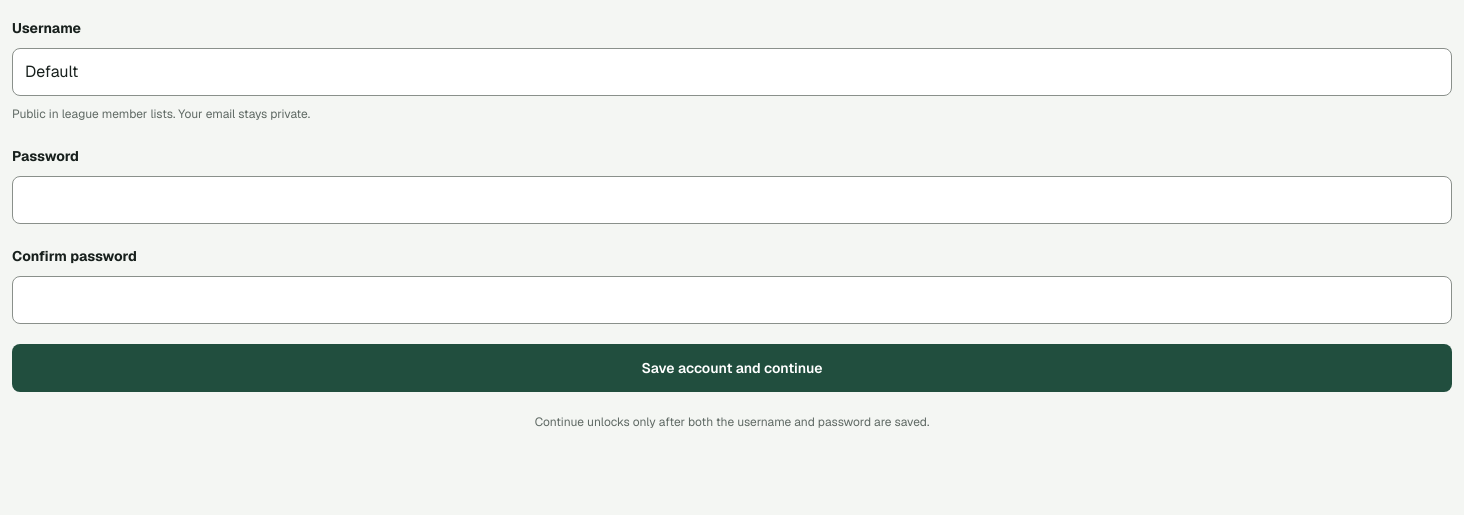
password authentication options › preserves the chosen username through a failed setup save after change event
The width and height of the screenshot is (1464, 515).
Replace the text in the field labelled "Username" with "ChosenName" at (732, 72), box [12,48,1452,96]
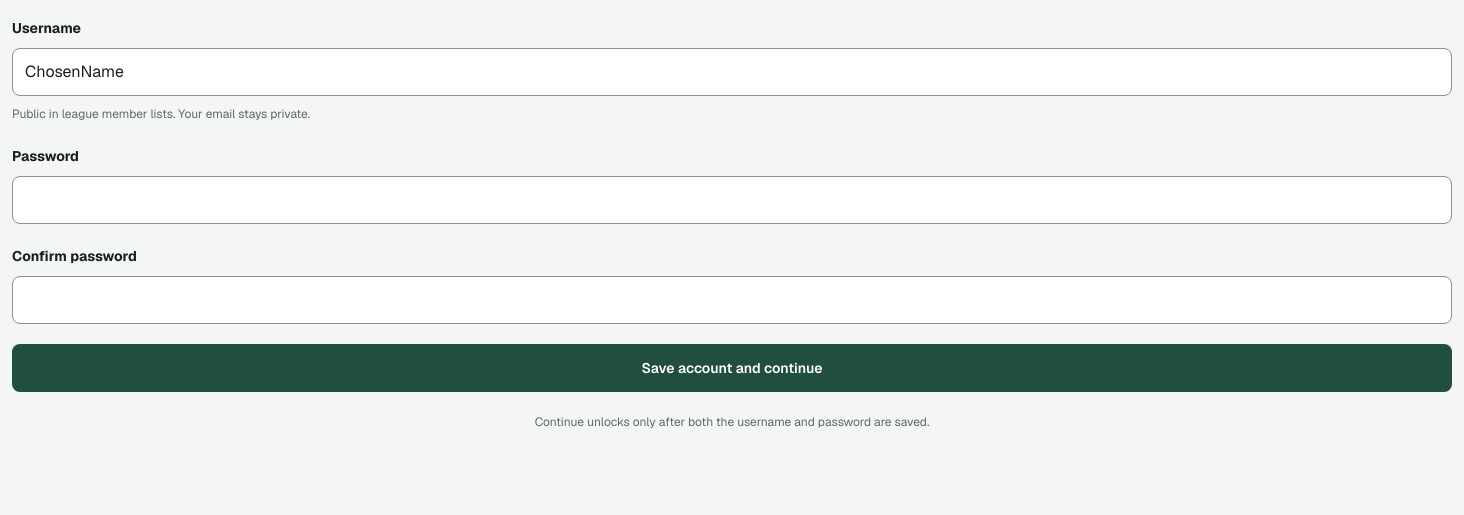
Submit the form named "Save account and continue"
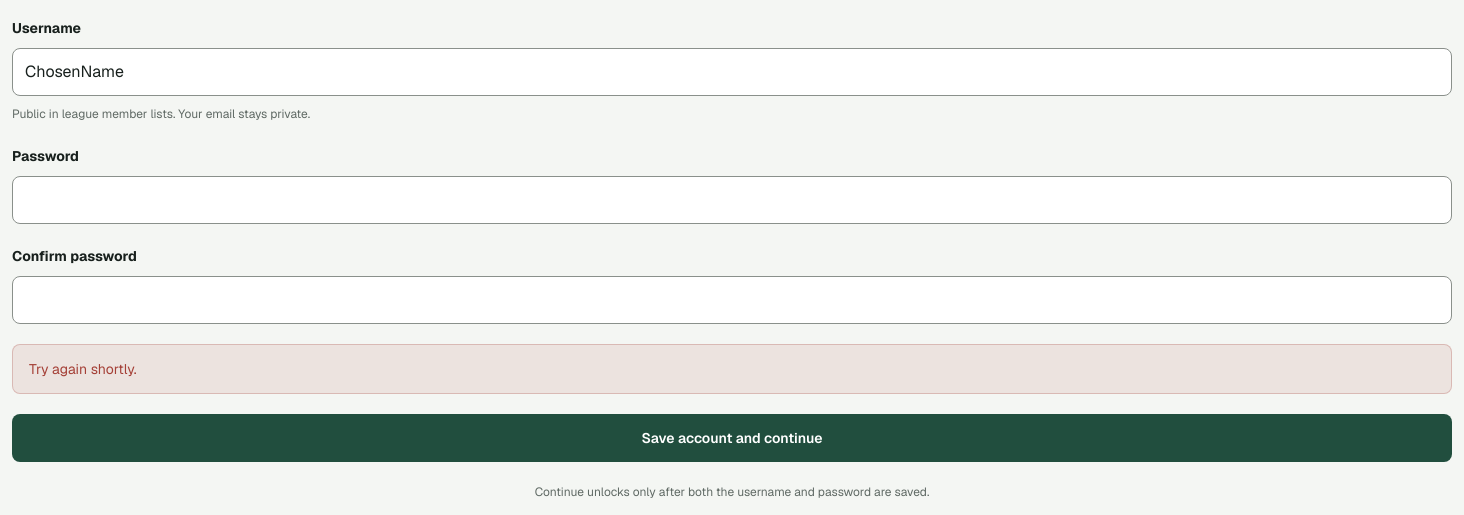
Expected: the message shows "Try again shortly", [29,360,137,378]
